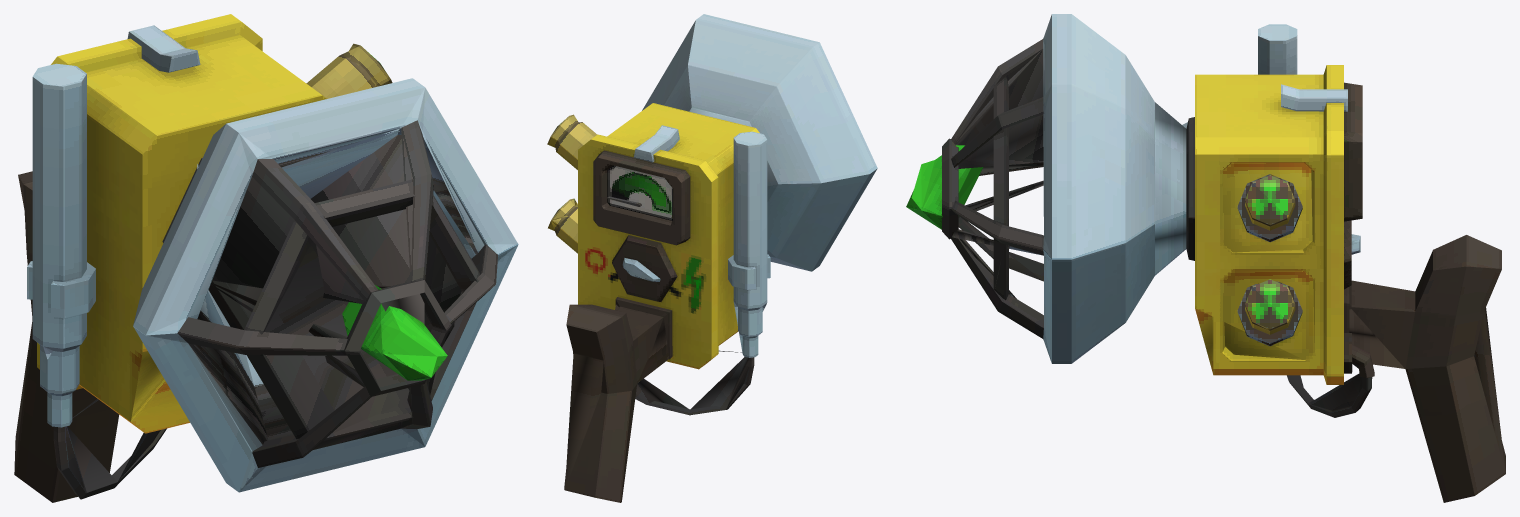
The model's file is item_radiation_gun.glb.
3 views of the same model, side by side, from view 1: azimuth 30°, elevation 25°; view 2: azimuth 150°, elevation 25°; view 3: azimuth 270°, elevation 25° (orthographic). The views are drawn at different scales.
Visible parts, largest first — view 1: Radiation_Gun; view 2: Radiation_Gun; view 3: Radiation_Gun.
Boxes of the visible parts, x1,y1,x2,y2 form: Radiation_Gun: (14, 14, 518, 502); Radiation_Gun: (547, 14, 877, 502); Radiation_Gun: (906, 14, 1505, 502).
Bounding box in the file's own units: 0.2348 × 0.3339 × 0.4094.
Materials: 1 (1 with a texture image).
